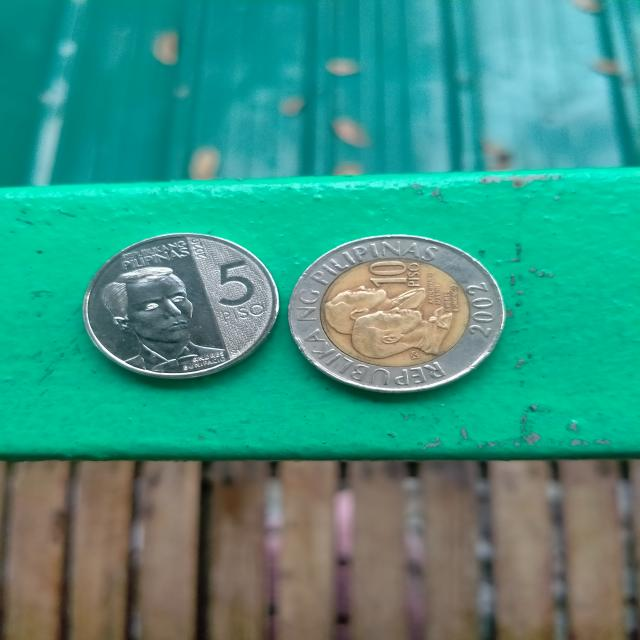10_Old_Front: (308, 247, 486, 381)
5_New_Front: (88, 243, 274, 372)
